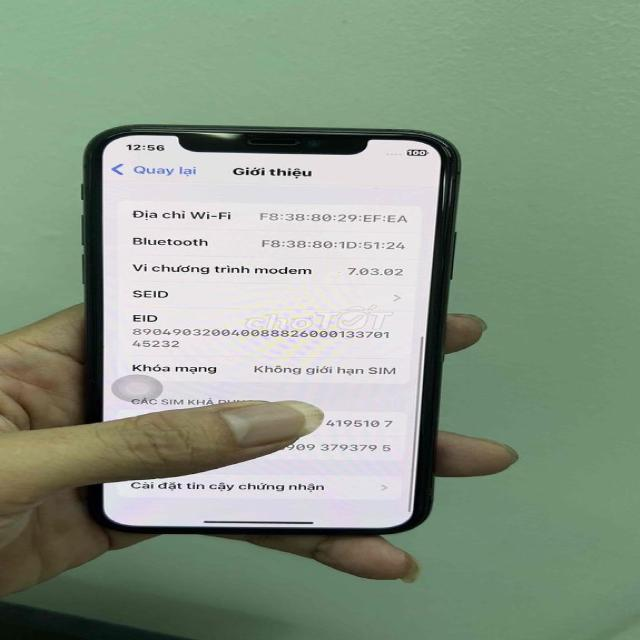gen_x_xs: (75, 120, 465, 552)
